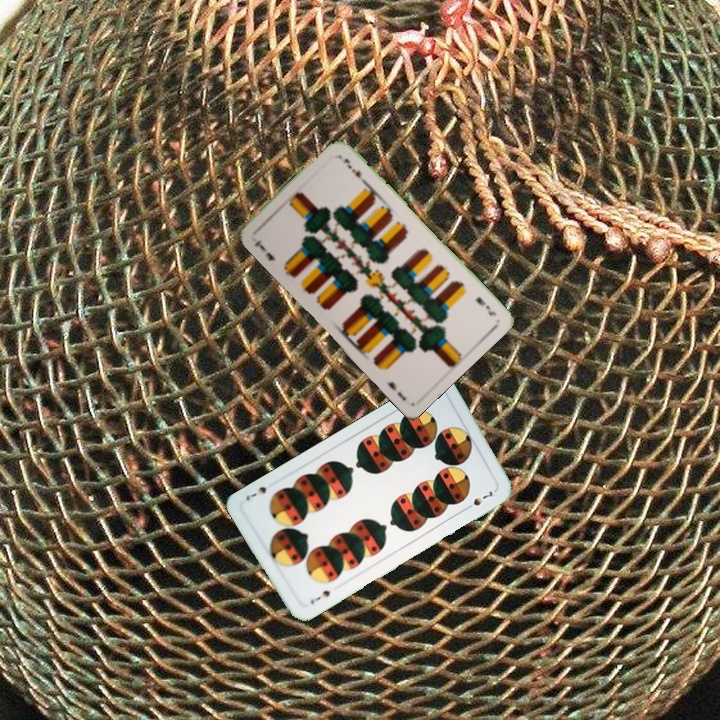E7: (250, 235, 278, 263), (471, 292, 499, 319)
S7: (306, 586, 335, 607)
